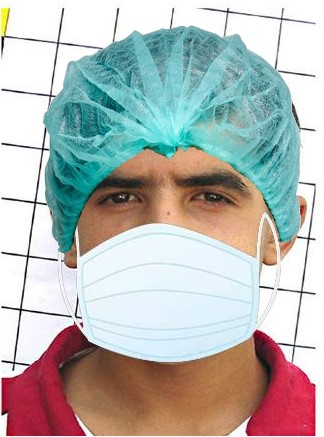with_mask_and_cap: (45, 27, 298, 363)
